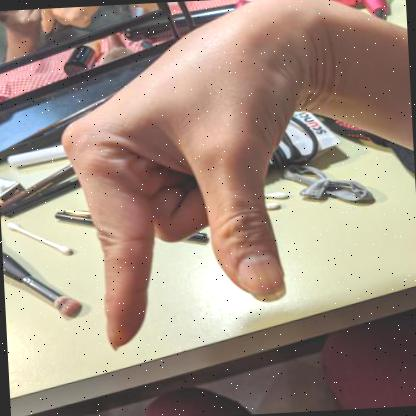Q: (61, 0, 320, 350)
